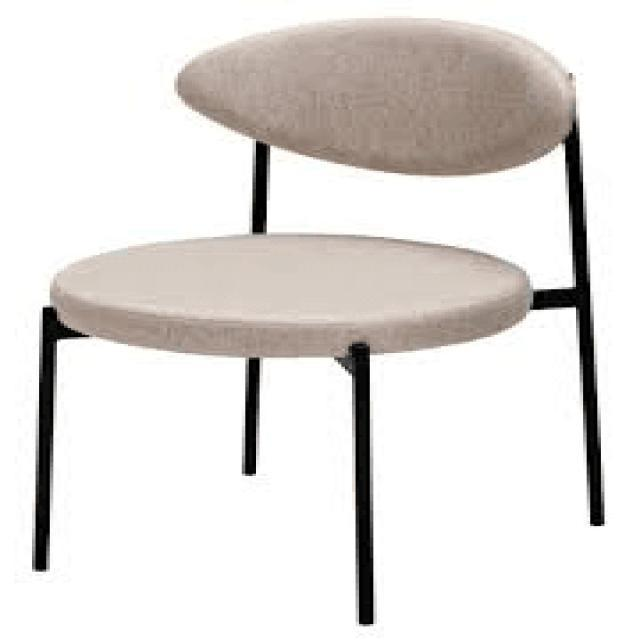chair: (26, 9, 619, 626), (28, 15, 579, 360)
